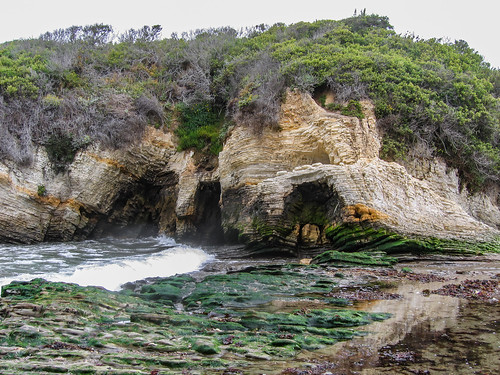sea: (1, 220, 214, 296)
vegetation: (1, 20, 484, 161)
